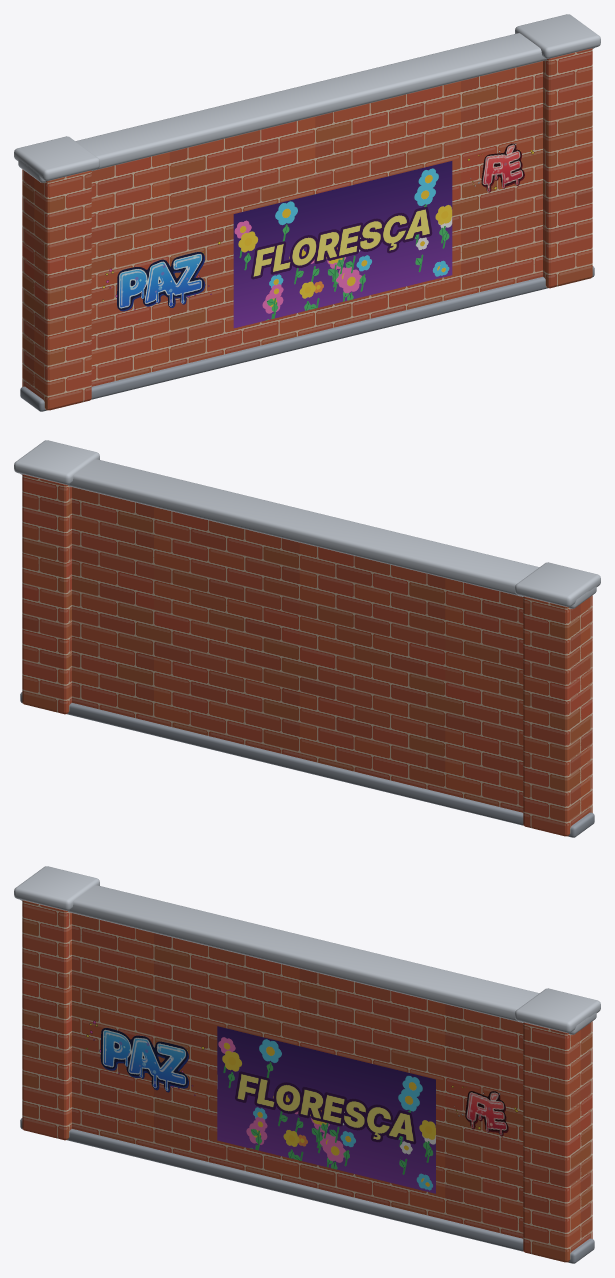
The model's file is muro_tijolo_flores.glb.
The picture shows the model from 3 angles, top to bottom: view 1: azimuth 30°, elevation 25°; view 2: azimuth 150°, elevation 25°; view 3: azimuth 330°, elevation 25°; orthographic projection.
Parts seen in each view (by area): view 1: muro_tijolo_flores; view 2: muro_tijolo_flores; view 3: muro_tijolo_flores.
Boxes of the visible parts, x1,y1,x2,y2 form: muro_tijolo_flores: (14, 14, 600, 411); muro_tijolo_flores: (14, 440, 600, 837); muro_tijolo_flores: (14, 866, 600, 1263).
Bounding box in the file's own units: 6.12 × 2.58 × 0.62.
5 materials, 5 textured.
